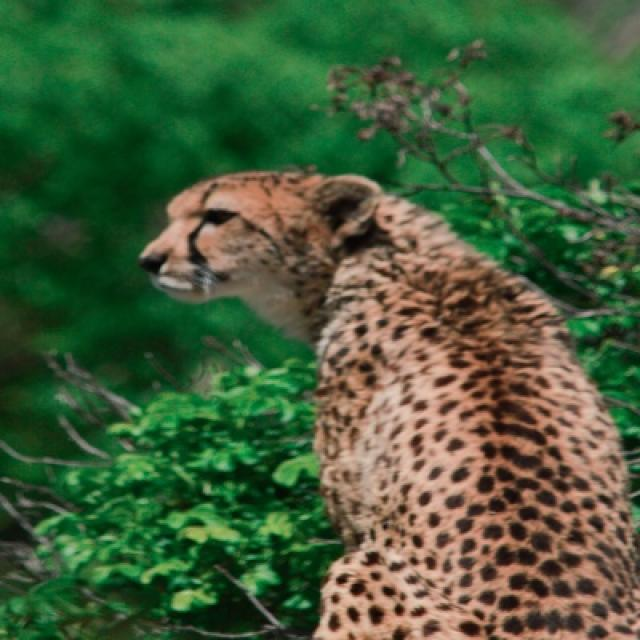Cheetah: (136, 166, 638, 638)
